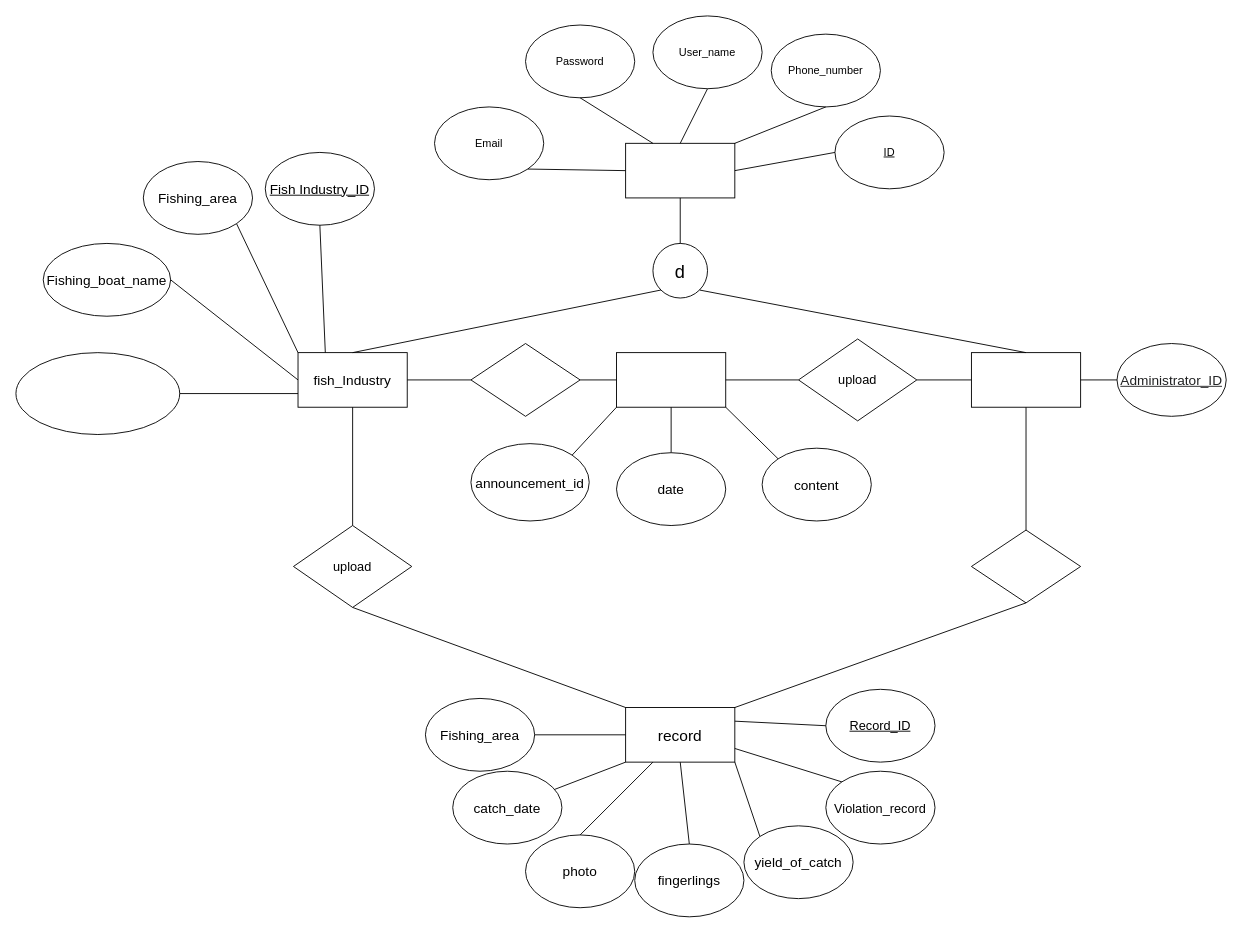
The diagram is 1242 pixels wide and 933 high, and some of its shapes have lost their labels. The shapes that lost their labels are listed below. From the top down, each one's centre as x and y in pixels, then its label:
pixel 680 170: member
pixel 97 393: Fishing_license_number
pixel 525 379: check
pixel 671 379: announcement
pixel 1026 379: administrator
pixel 1026 566: Manage
